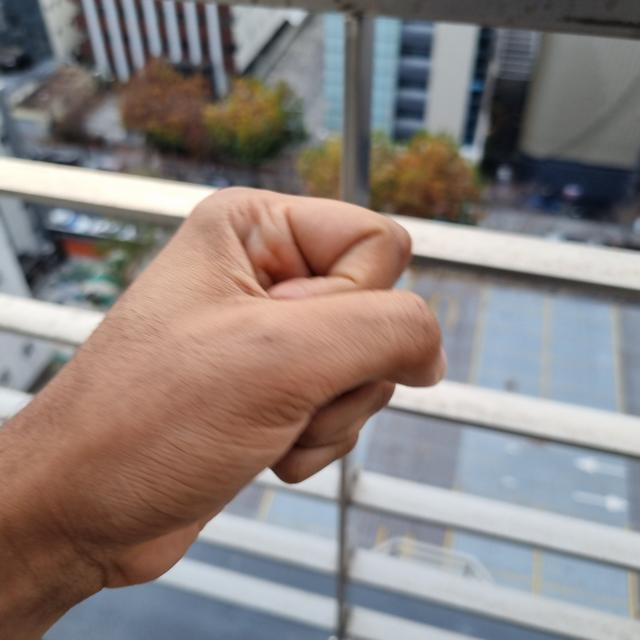Rock: (1, 189, 442, 592)
